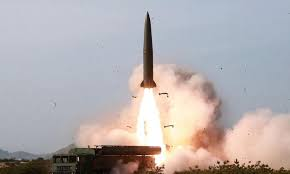ten_lua: (138, 3, 157, 92)
